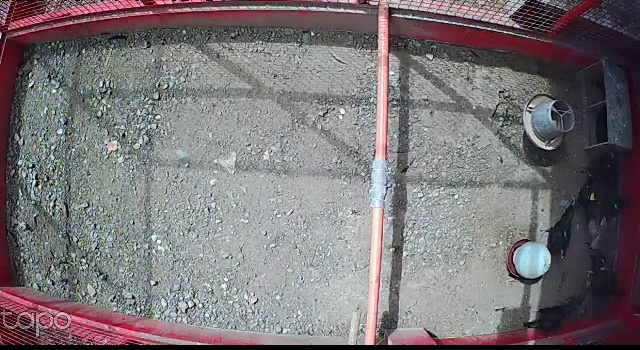Chicken: (521, 291, 587, 336)
Rooster: (582, 238, 628, 305)
Saddle_Color_Yellow: (589, 193, 596, 201)
